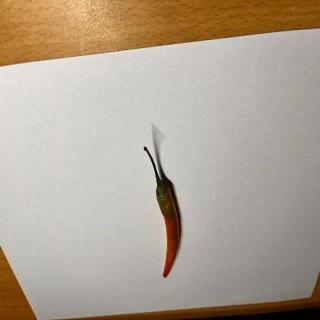Cabai Merah: (144, 147, 180, 279)
